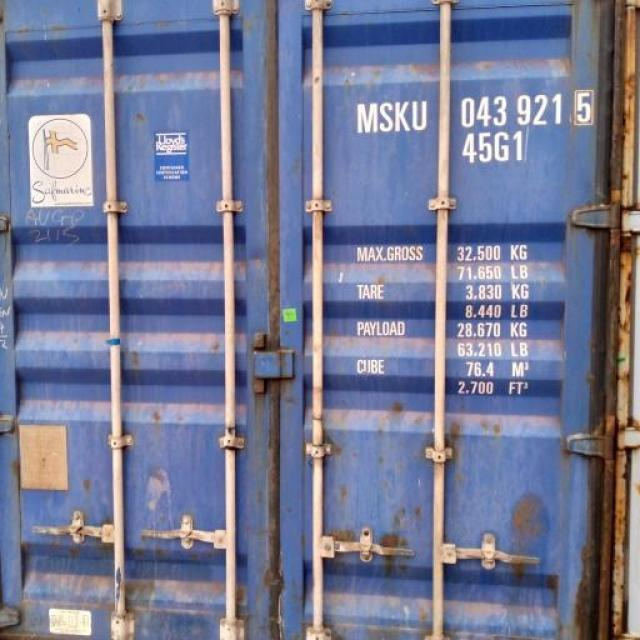ISO: (464, 132, 528, 162)
container_number: (354, 94, 598, 128)
